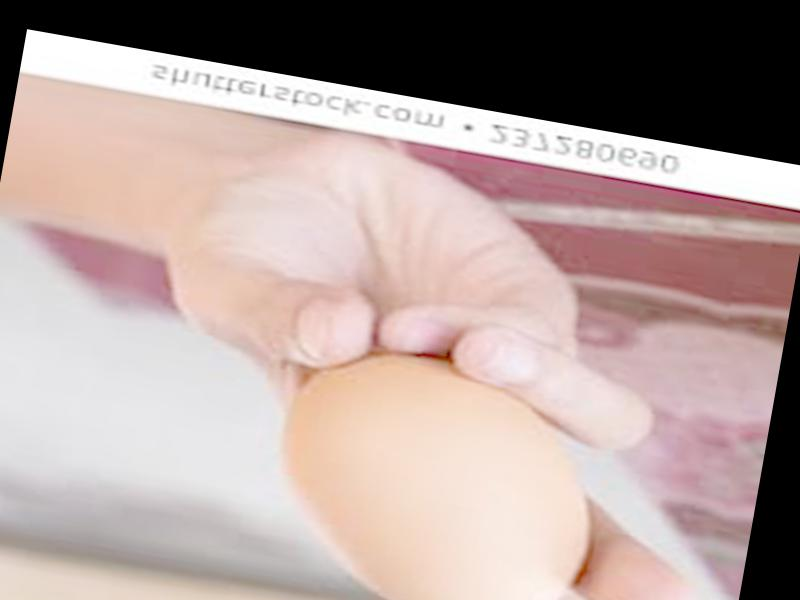Eggs: (260, 338, 617, 600)
